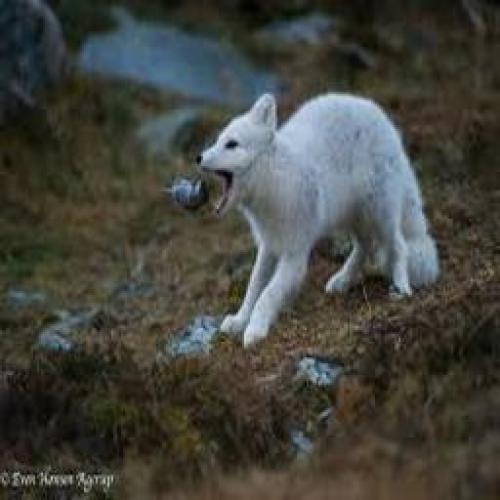arctic_fox-endangered: (189, 89, 443, 312)
